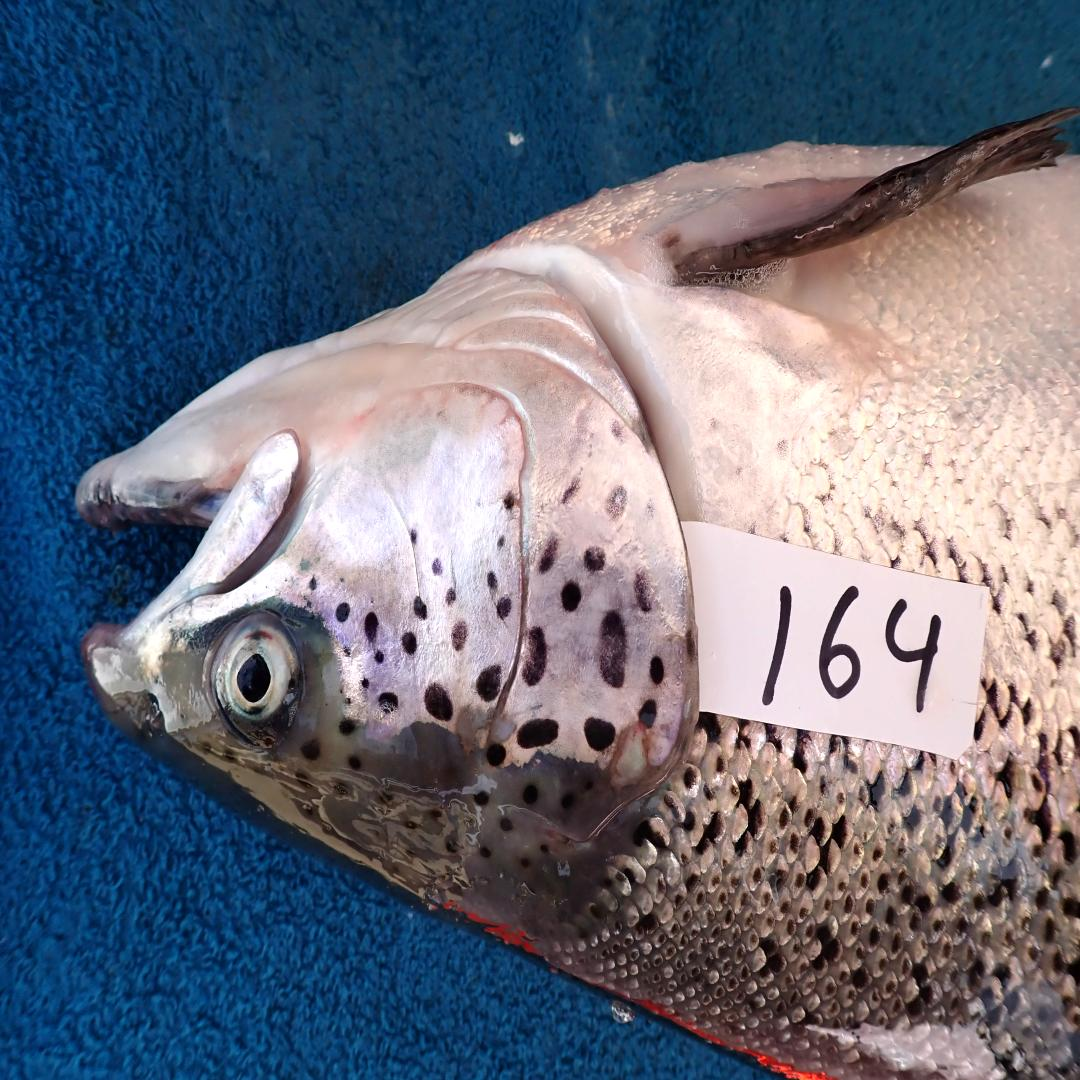roi: (308, 262, 696, 774)
